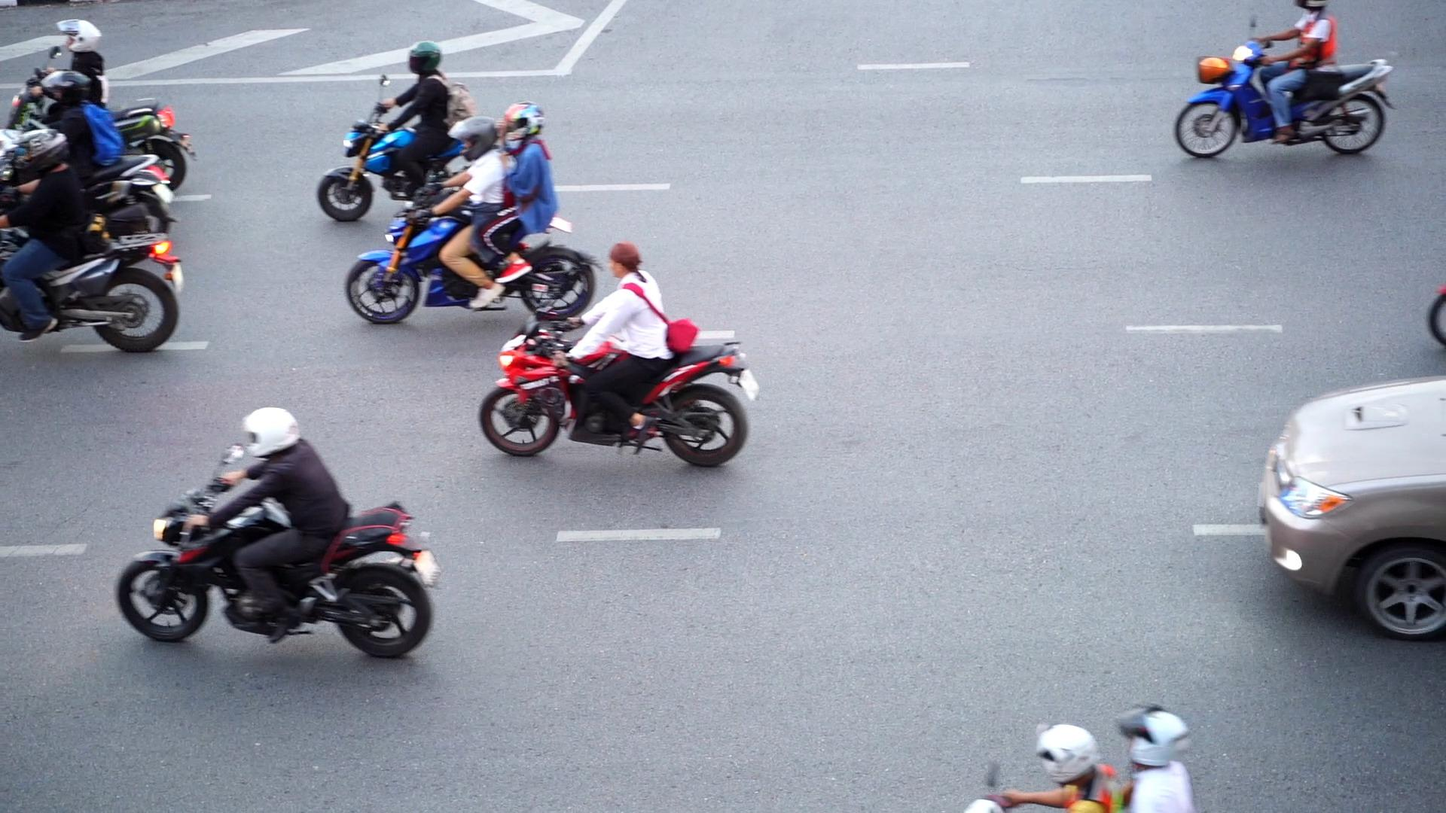driver: (118, 407, 442, 657), (480, 240, 761, 467), (346, 100, 605, 326), (0, 128, 186, 353), (1174, 0, 1397, 158), (7, 18, 197, 192), (317, 40, 479, 222), (962, 702, 1200, 813)
helmet: (1112, 701, 1191, 770), (1035, 720, 1102, 784), (242, 407, 301, 458), (11, 128, 71, 176), (447, 116, 499, 162), (503, 101, 546, 151), (40, 68, 91, 109), (56, 18, 102, 54), (408, 40, 441, 75)
no-helmet: (609, 240, 641, 278)
